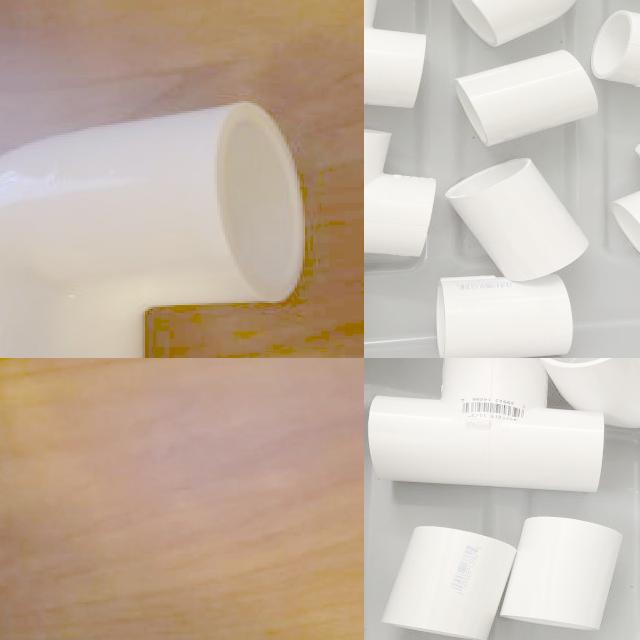L Joint: (0, 103, 306, 358), (364, 0, 426, 111), (449, 0, 575, 47), (592, 11, 640, 91)
T Joint: (370, 358, 605, 495), (364, 129, 438, 276)
